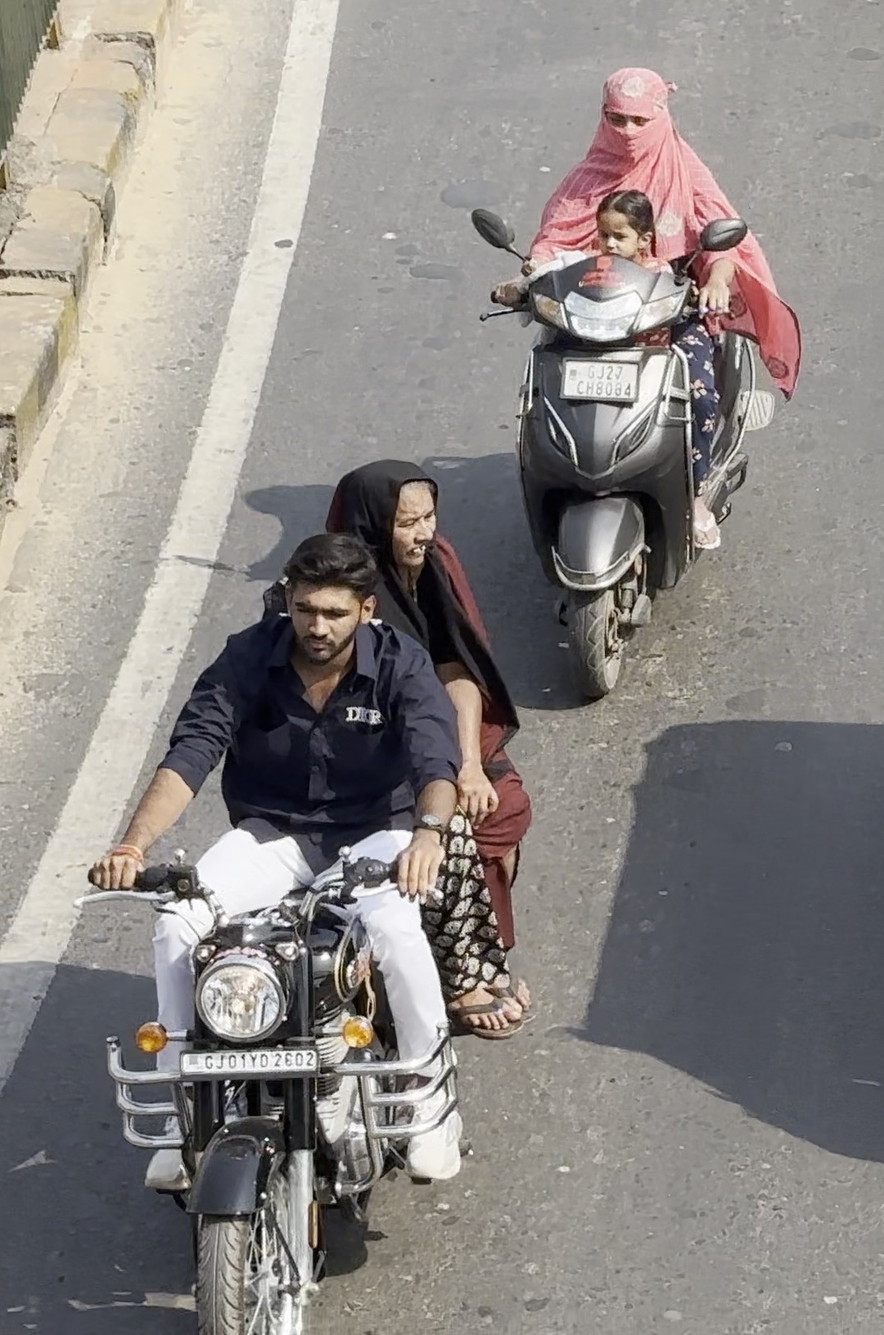BikeWithRider: (67, 443, 549, 1332), (458, 53, 816, 711)
NoHelmet: (316, 446, 456, 594), (264, 525, 391, 669), (576, 56, 691, 160), (580, 183, 670, 268)
